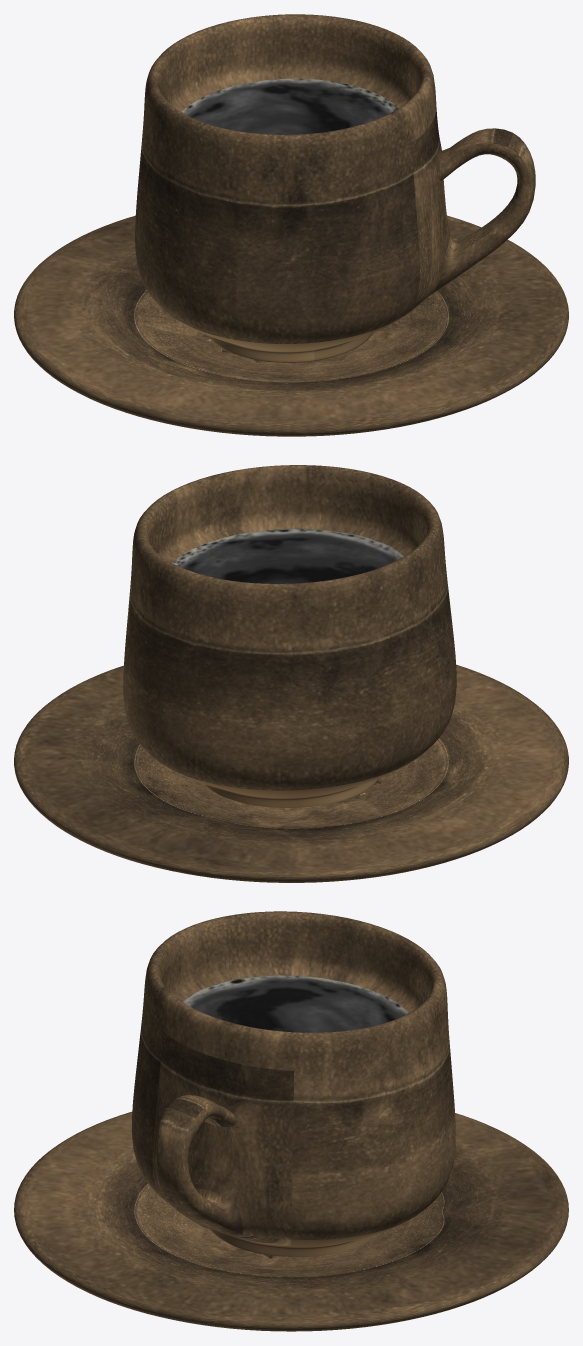
Rendered from coffee_mug.glb.
The picture shows the model from 3 angles, top to bottom: view 1: azimuth 30°, elevation 25°; view 2: azimuth 150°, elevation 25°; view 3: azimuth 270°, elevation 25°; orthographic projection.
Parts seen in each view (by area): view 1: Mug, CupHolder; view 2: Mug, CupHolder; view 3: Mug, CupHolder.
Boxes of the visible parts, x1,y1,x2,y2 form: Mug: (135,14,535,362); CupHolder: (14,215,568,436); Mug: (123,465,456,807); CupHolder: (14,664,568,882); Mug: (132,911,455,1256); CupHolder: (14,1111,568,1331).
Bounding box in the file's own units: 0.77 × 0.4305 × 0.7701.
Materials: 2 (2 with a texture image).
